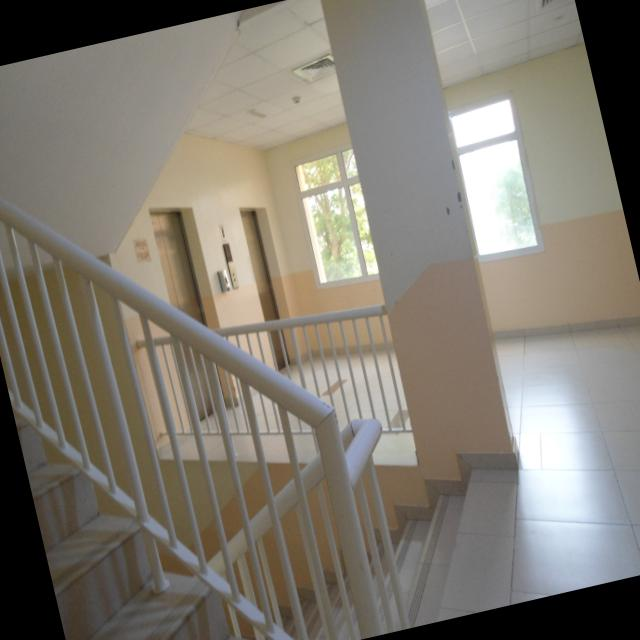lift: (139, 192, 235, 418), (236, 200, 302, 366)
liftbutton: (218, 237, 240, 290)
pillar: (317, 0, 532, 488)
railing: (0, 86, 390, 640), (121, 277, 426, 501)
stairs: (12, 361, 290, 640), (229, 443, 543, 640)
